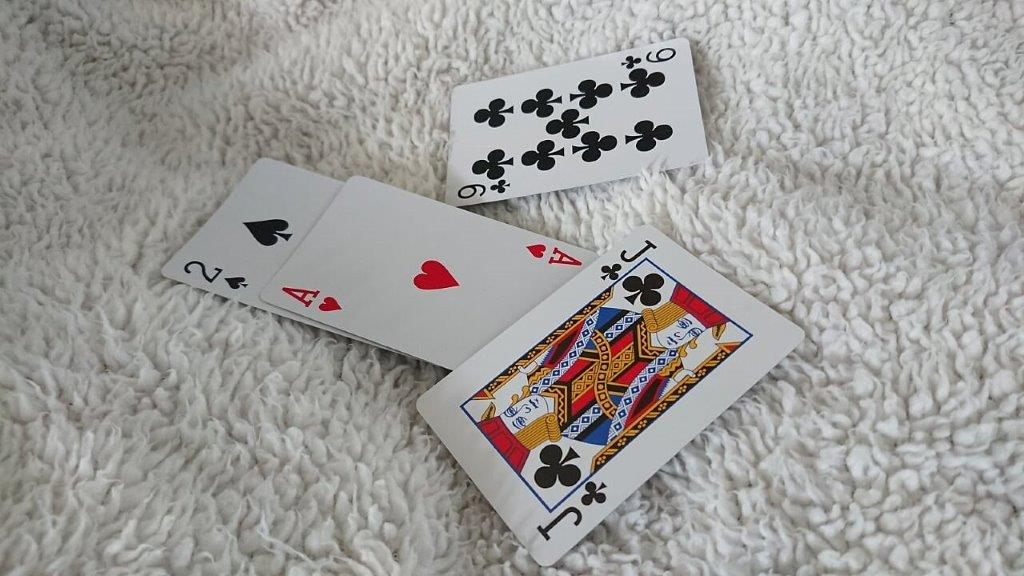JC: (596, 232, 663, 288)
